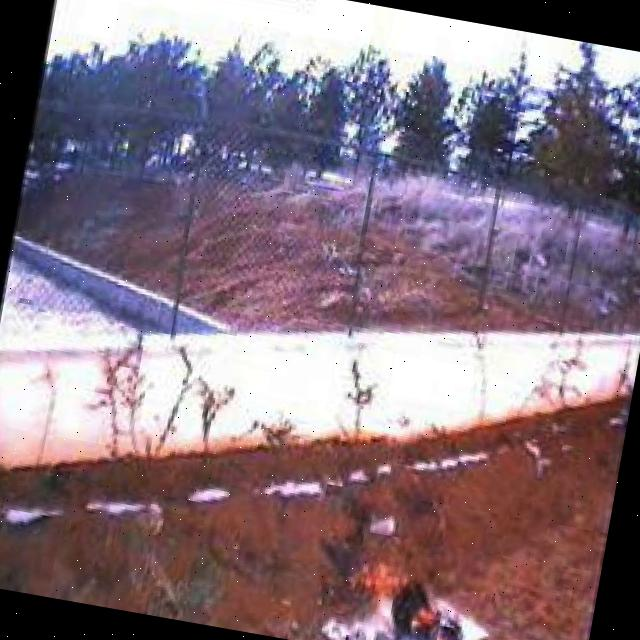fire: (331, 551, 482, 640)
